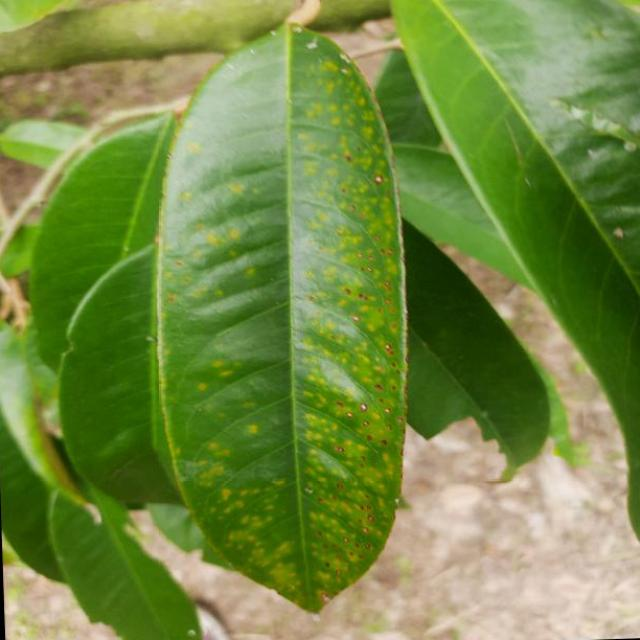Leaf Spot: (138, 0, 430, 634)
